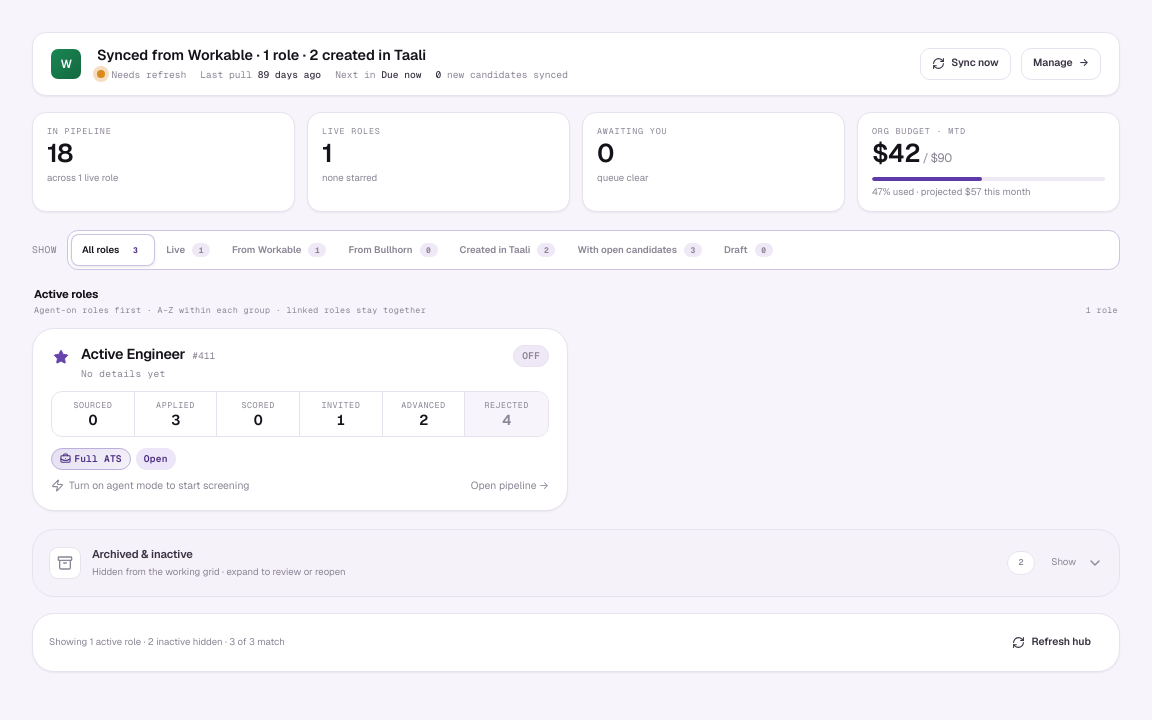
Test: JobsPage Workable sync states › collapses inactive roles by default and expands them as compact cards
(page scrolled)
Expected: the heading "Active Engineer" is shown, [81,345,185,364]
Expected: the text "Archived Engineer" is not shown
Click the button with aria-label "Show archived and inactive roles (2)" at (65, 563), box [33,530,1119,596]
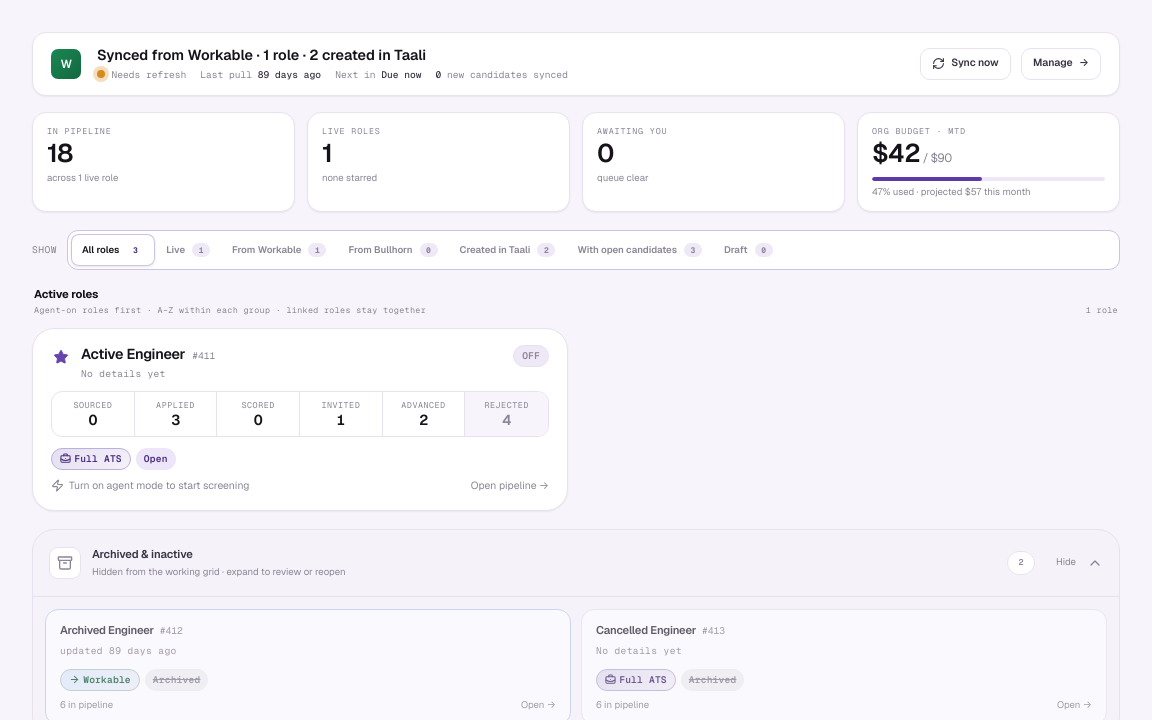
Result: the button with aria-label "Hide archived and inactive roles (2)" is expanded
Result: the 1st text "Archived" is shown at [145,669,208,691]
Result: the 2nd text "Archived" is shown at [681,669,744,691]
Click the button with aria-label "Hide archived and inactive roles (2)" at (65, 563), box [33,530,1119,596]
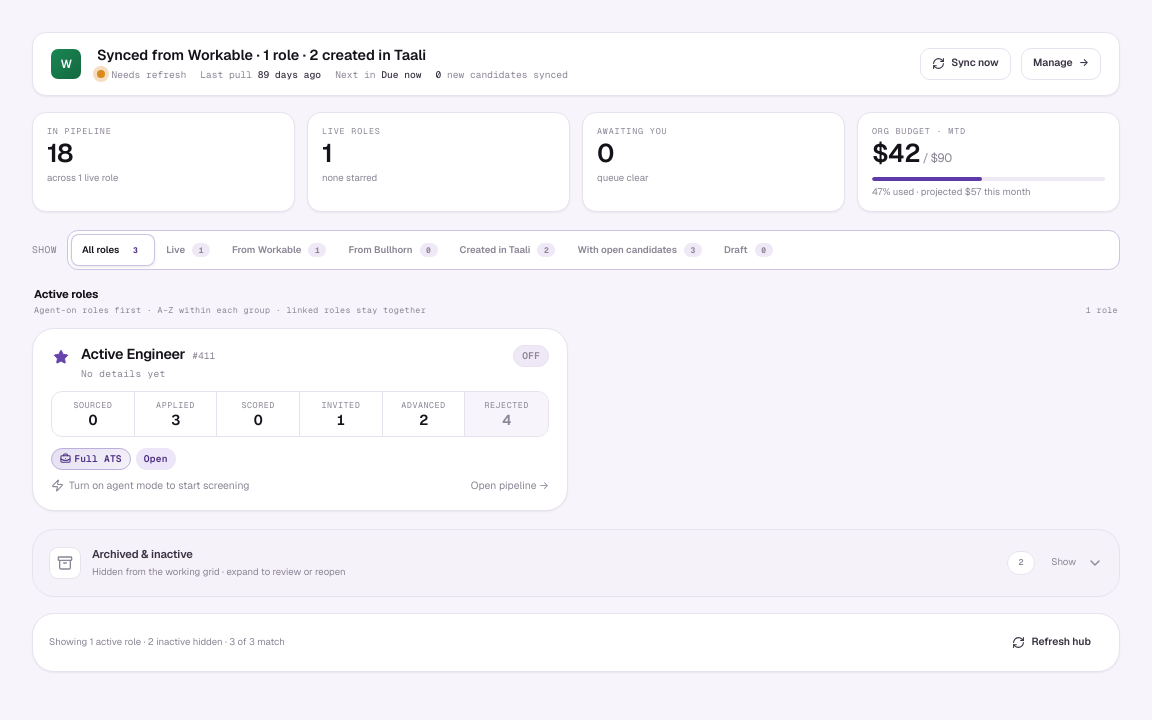
Result: the button with aria-label "Show archived and inactive roles (2)" is collapsed at [33,530,1119,596]
Result: the button "Archived Engineer" is gone
Result: the button "Cancelled Engineer" is gone
